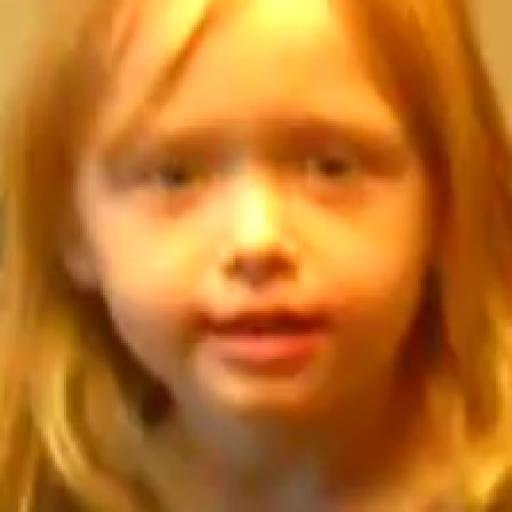Autism: (19, 24, 451, 488)
